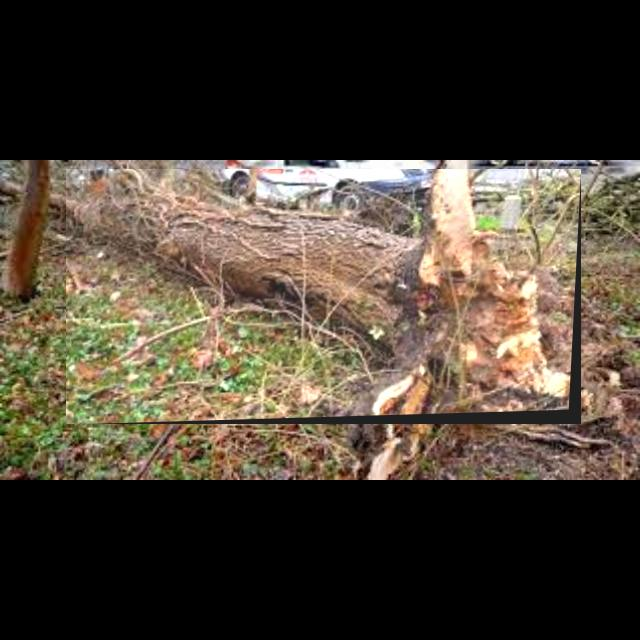Fallen Tree: (66, 169, 582, 425)
